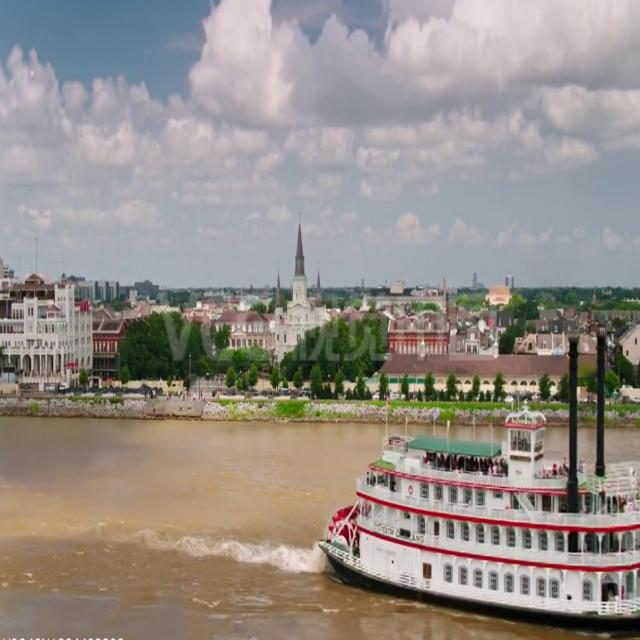passenger ship: (316, 378, 640, 639)
